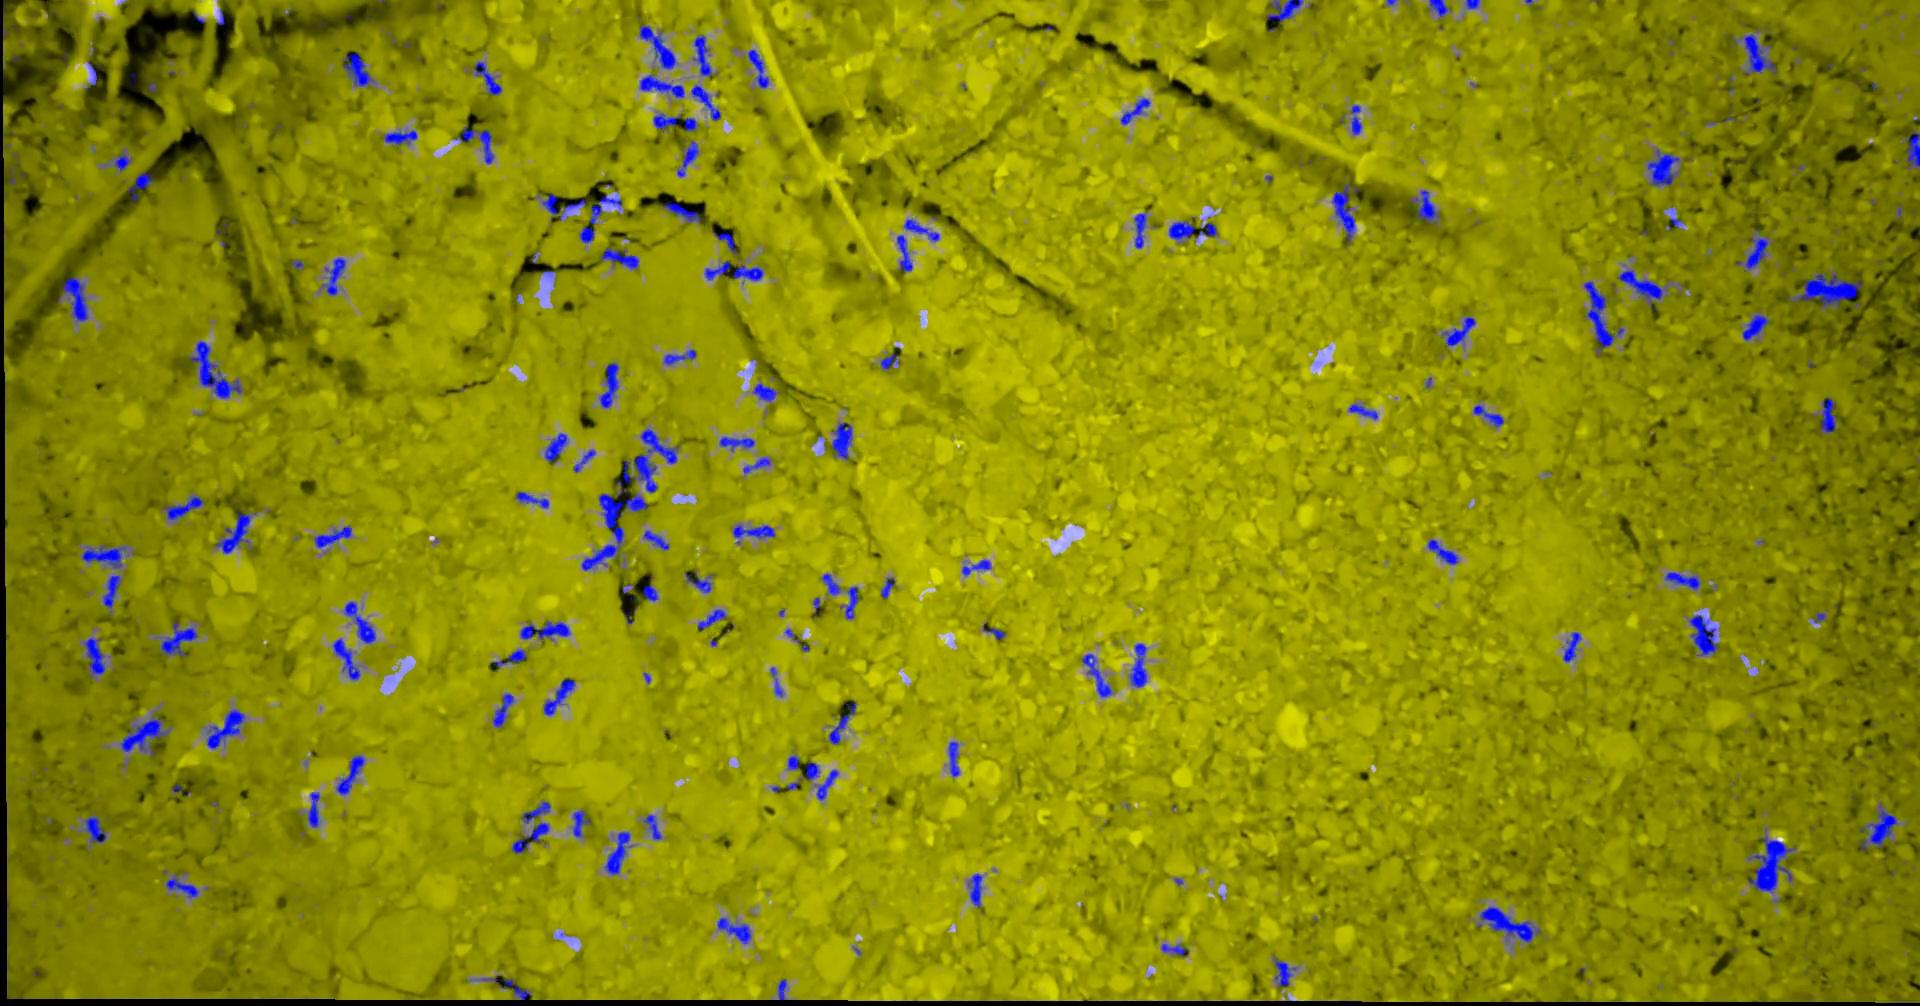ant: (188, 340, 241, 398), (1583, 279, 1623, 354), (1476, 906, 1540, 942), (579, 194, 621, 243), (119, 716, 168, 756), (1858, 801, 1897, 848), (1617, 269, 1662, 309), (639, 24, 676, 69), (206, 708, 245, 748), (215, 511, 253, 553), (1332, 183, 1357, 241), (455, 124, 493, 163), (1735, 227, 1768, 271), (1081, 653, 1111, 697), (1743, 33, 1777, 74), (703, 260, 762, 283), (343, 601, 375, 643), (159, 621, 197, 655), (541, 192, 585, 220), (1688, 614, 1717, 655), (61, 276, 88, 321), (510, 822, 549, 854), (335, 754, 364, 795), (331, 638, 359, 680), (828, 701, 855, 744), (603, 831, 630, 874), (1647, 149, 1677, 185), (543, 678, 574, 715), (690, 84, 720, 119), (81, 544, 126, 568), (342, 52, 372, 86), (639, 74, 684, 97), (163, 495, 203, 520), (519, 620, 570, 639), (472, 61, 502, 94), (1443, 316, 1476, 345), (83, 636, 105, 677), (1410, 191, 1437, 224), (321, 257, 345, 295), (598, 362, 618, 406), (662, 199, 700, 222), (312, 525, 350, 547), (716, 917, 750, 942), (1120, 97, 1150, 124), (676, 140, 698, 177), (165, 873, 198, 898), (599, 246, 637, 268), (903, 218, 938, 241), (692, 34, 711, 76), (747, 50, 768, 86), (830, 422, 852, 459), (1741, 312, 1769, 340), (1427, 539, 1458, 564), (1266, 0, 1302, 22), (731, 525, 775, 542), (543, 432, 568, 464), (489, 649, 526, 669), (127, 171, 152, 201), (814, 768, 838, 799), (1129, 643, 1145, 687), (491, 694, 513, 727), (1472, 404, 1503, 426), (1901, 130, 1919, 168), (521, 800, 550, 823), (1663, 572, 1700, 589), (102, 575, 119, 612), (83, 814, 105, 842), (1272, 956, 1295, 984), (839, 586, 858, 619), (500, 978, 531, 998), (1168, 220, 1194, 243), (1562, 631, 1581, 662), (684, 570, 711, 592), (697, 608, 725, 629), (1818, 398, 1835, 432), (897, 234, 912, 271), (712, 231, 737, 254), (573, 448, 596, 473), (516, 492, 549, 508), (571, 809, 590, 837), (663, 349, 696, 365), (719, 436, 754, 450), (643, 530, 668, 549), (643, 814, 662, 840), (651, 113, 681, 130), (961, 559, 990, 575), (968, 873, 982, 907), (383, 130, 417, 144), (1349, 403, 1377, 419), (743, 456, 770, 473), (1133, 213, 1145, 248), (752, 384, 776, 401), (822, 573, 841, 594), (307, 791, 319, 827), (1161, 942, 1189, 956), (770, 667, 782, 696), (949, 741, 959, 776), (1429, 0, 1449, 17), (113, 151, 130, 171), (1350, 104, 1361, 133), (982, 625, 1004, 639), (880, 577, 894, 598), (880, 353, 898, 370), (801, 762, 819, 779), (1197, 222, 1217, 236), (643, 584, 657, 600), (683, 117, 697, 131), (777, 978, 786, 1000), (787, 754, 799, 768), (1465, 0, 1479, 9)
